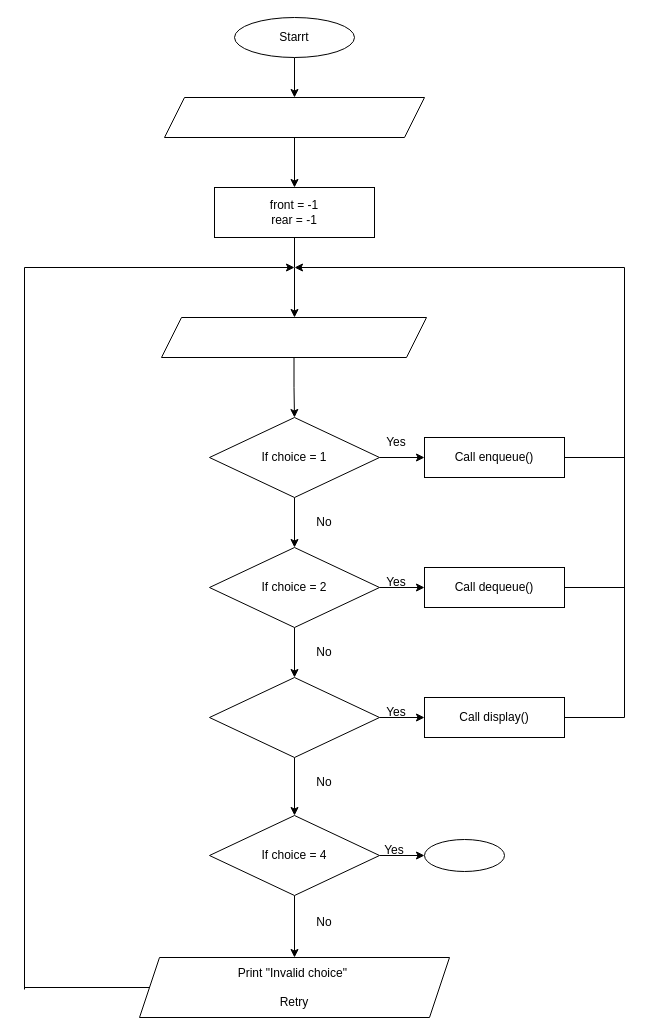
Some shapes in this 650 by 1035 pixel diagram are drawn without their labels. Each missing label, with the centre of its shape:
"Declare queue[MAX]" belongs at (x=294, y=117).
"Display menu and get choice" belongs at (x=293, y=337).
"If choice = 3" belongs at (x=294, y=717).
"Stop" belongs at (x=464, y=855).
